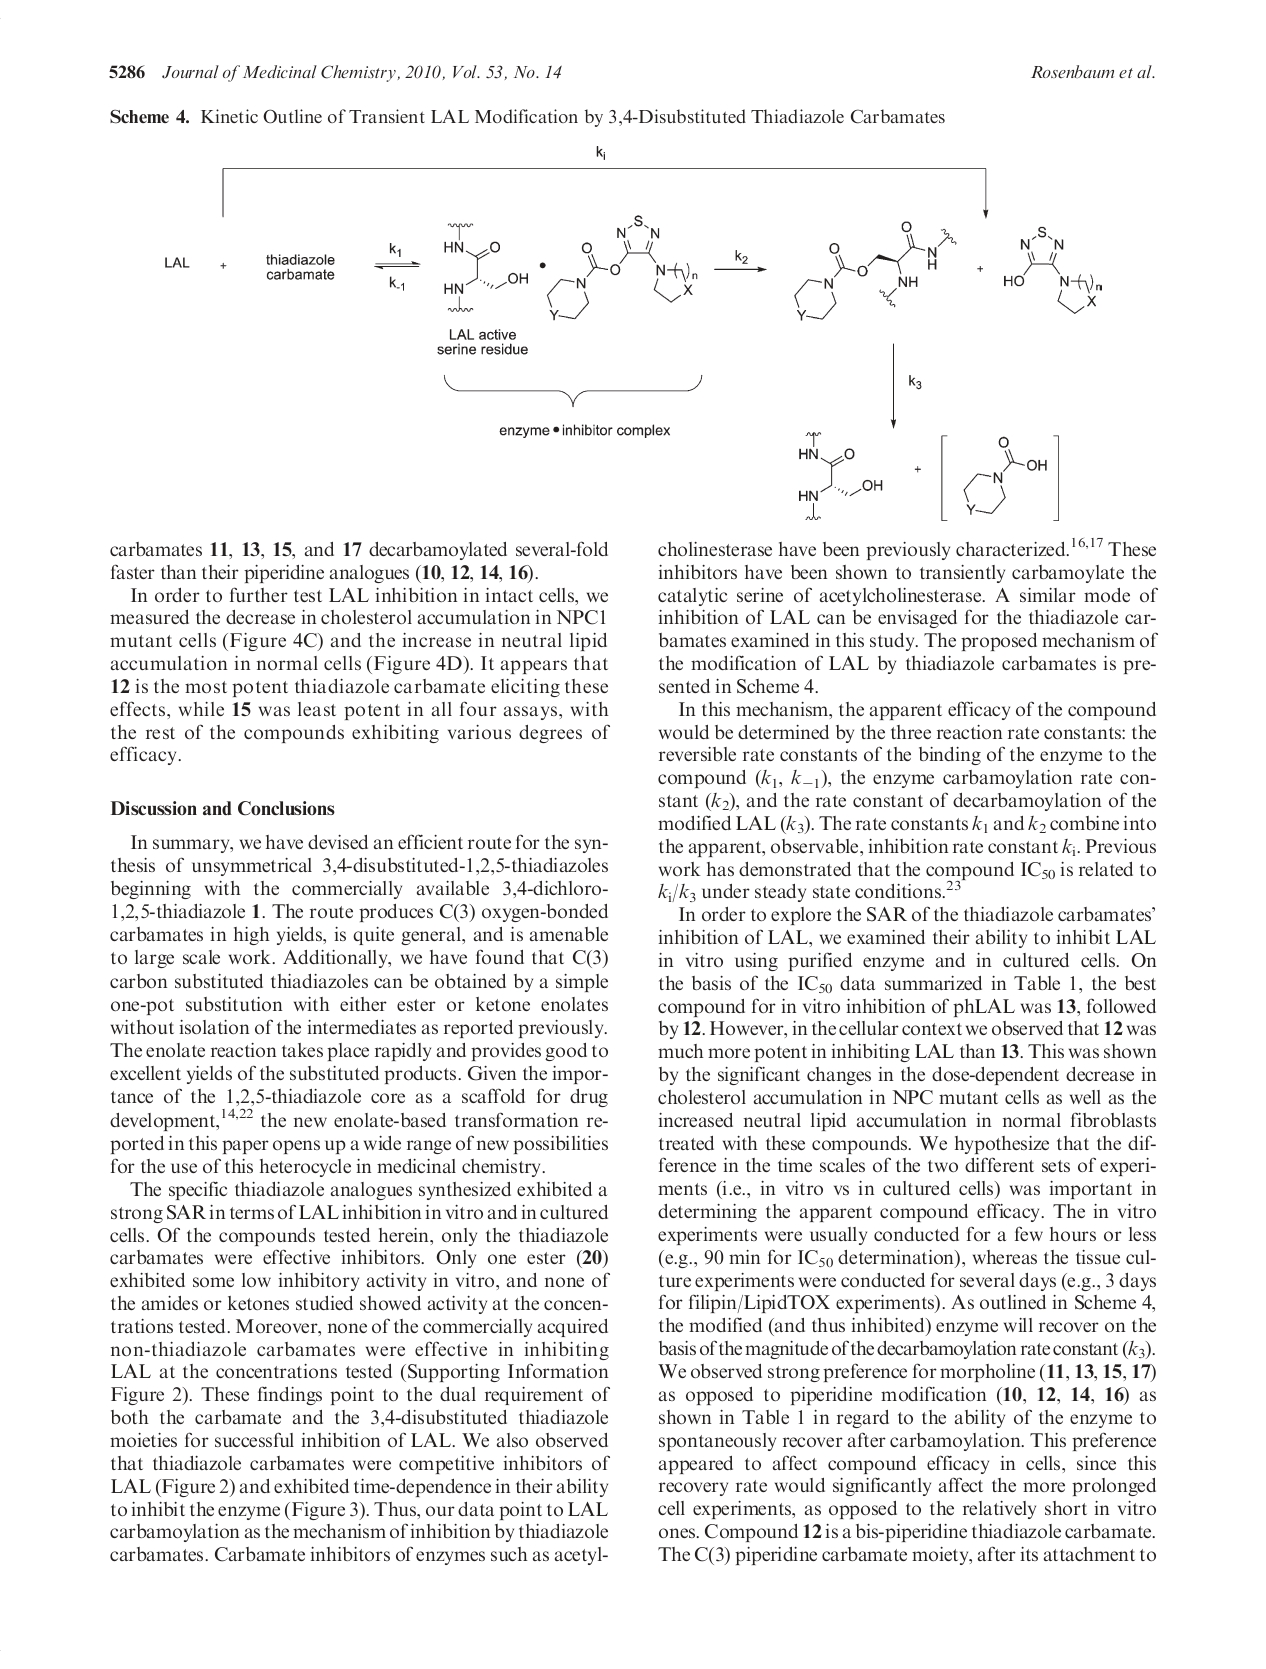exist_molecular: (791, 219, 957, 324), (545, 211, 701, 322), (1000, 223, 1106, 317), (438, 218, 532, 317), (797, 427, 884, 525), (961, 434, 1051, 520)
